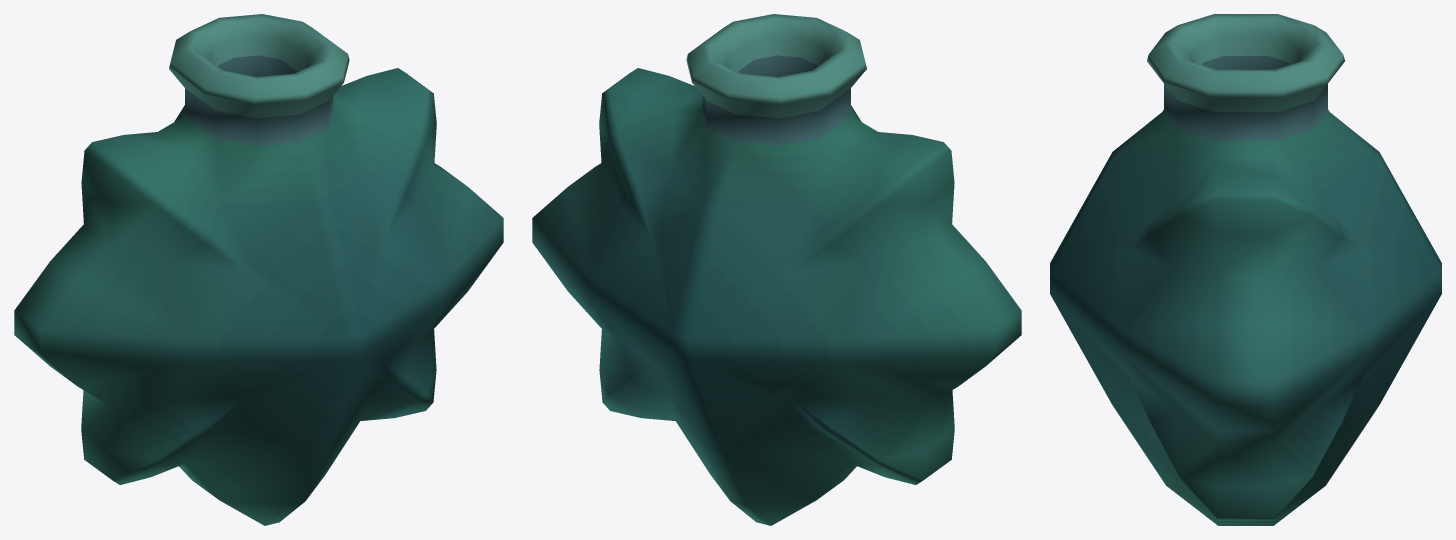
Rendered from CharSkyKid_Prop_StarJar__CharSkyKid_Prop_StarJar_C_CompOcc.glb.
The picture shows the model from 3 angles, left to right: view 1: azimuth 30°, elevation 25°; view 2: azimuth 150°, elevation 25°; view 3: azimuth 270°, elevation 25°; orthographic projection. The views are drawn at different scales.
Parts seen in each view (by area): view 1: CharSkyKid_Prop_StarJar; view 2: CharSkyKid_Prop_StarJar; view 3: CharSkyKid_Prop_StarJar.
Boxes of the visible parts, left/top/right/bottom form: CharSkyKid_Prop_StarJar: left=14, top=14, right=503, bottom=525; CharSkyKid_Prop_StarJar: left=532, top=14, right=1021, bottom=525; CharSkyKid_Prop_StarJar: left=1050, top=14, right=1441, bottom=525.
Size of the model in its own units: 0.2347 by 0.2265 by 0.1679.
1 material, 1 textured.
